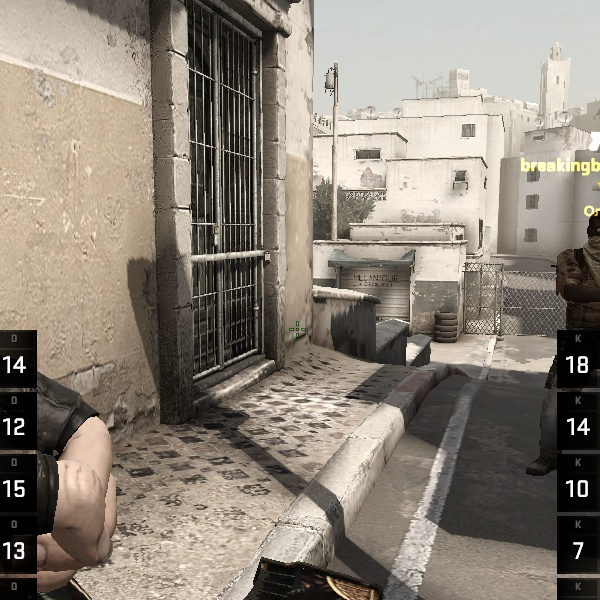t_body: (532, 213, 599, 474)
t_head: (587, 213, 599, 258)
